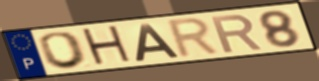8: (258, 9, 304, 49)
A: (133, 22, 181, 63)
H: (78, 24, 136, 68)
O: (37, 30, 91, 71)
R: (166, 16, 223, 60), (209, 13, 265, 55)
